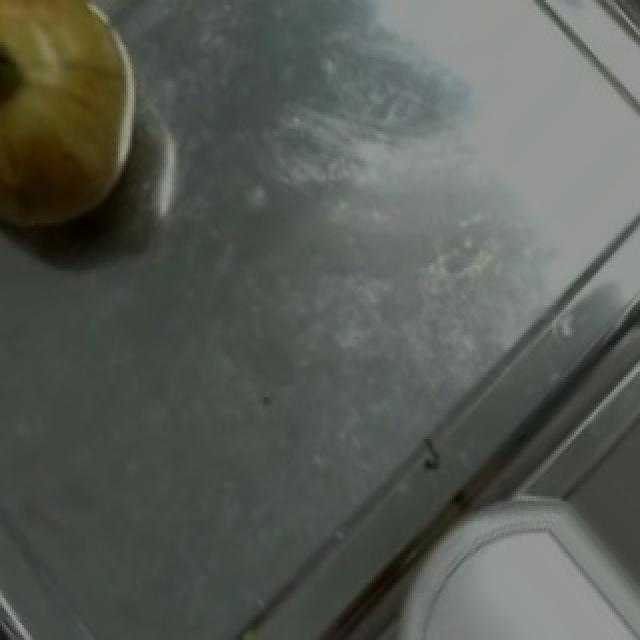fruit: (0, 0, 172, 263)
